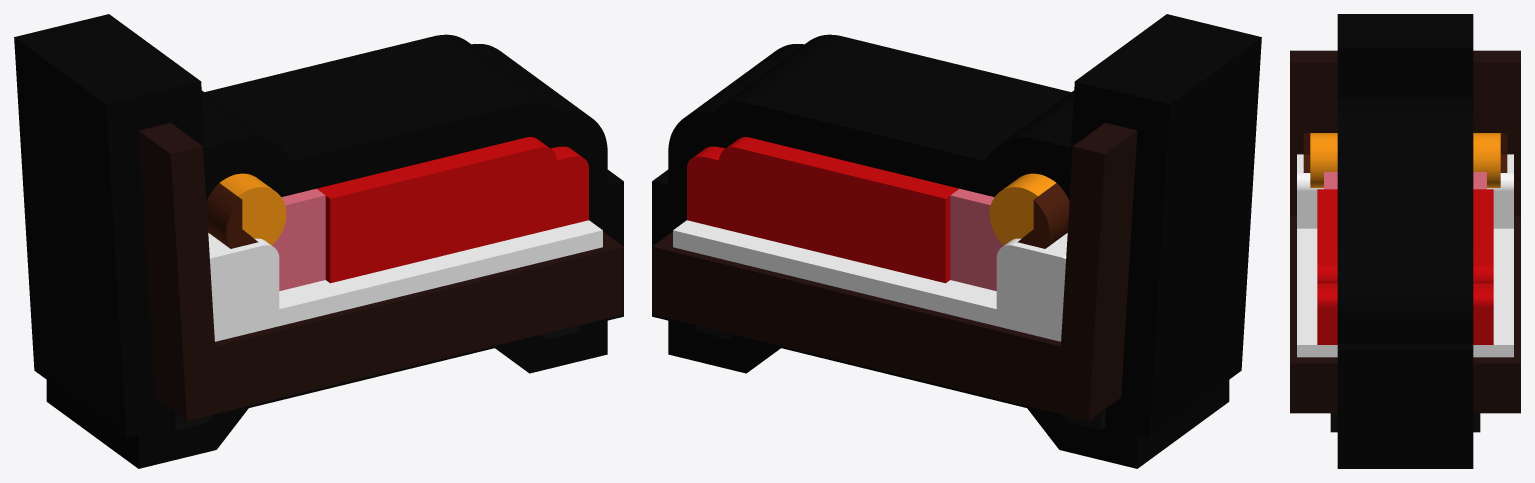
3 renders of one model, left to right at view 1: azimuth 30°, elevation 25°; view 2: azimuth 150°, elevation 25°; view 3: azimuth 270°, elevation 25°, orthographic. The views are drawn at different scales.
Visible parts, largest first — view 1: U+1F6CC_layer00_obj00, U+1F6CC_layer07_obj00, U+1F6CC_layer03_obj00, U+1F6CC_layer06_obj00, U+1F6CC_layer02_obj00, U+1F6CC_layer04_obj00, U+1F6CC_layer05_obj00, U+1F6CC_layer01_obj00; view 2: U+1F6CC_layer00_obj00, U+1F6CC_layer07_obj00, U+1F6CC_layer03_obj00, U+1F6CC_layer06_obj00, U+1F6CC_layer02_obj00, U+1F6CC_layer04_obj00, U+1F6CC_layer05_obj00, U+1F6CC_layer01_obj00; view 3: U+1F6CC_layer00_obj00, U+1F6CC_layer07_obj00, U+1F6CC_layer06_obj00, U+1F6CC_layer03_obj00, U+1F6CC_layer04_obj00, U+1F6CC_layer05_obj00, U+1F6CC_layer02_obj00, U+1F6CC_layer01_obj00.
Part boxes in pixels (bbox=[...]): U+1F6CC_layer00_obj00: bbox=[14, 14, 623, 468]; U+1F6CC_layer07_obj00: bbox=[138, 122, 623, 420]; U+1F6CC_layer03_obj00: bbox=[317, 137, 588, 283]; U+1F6CC_layer06_obj00: bbox=[208, 220, 602, 341]; U+1F6CC_layer02_obj00: bbox=[272, 188, 325, 290]; U+1F6CC_layer04_obj00: bbox=[220, 173, 286, 245]; U+1F6CC_layer05_obj00: bbox=[206, 183, 258, 248]; U+1F6CC_layer01_obj00: bbox=[170, 325, 579, 430]; U+1F6CC_layer00_obj00: bbox=[652, 14, 1261, 468]; U+1F6CC_layer07_obj00: bbox=[652, 122, 1137, 420]; U+1F6CC_layer03_obj00: bbox=[687, 137, 958, 283]; U+1F6CC_layer06_obj00: bbox=[673, 220, 1067, 341]; U+1F6CC_layer02_obj00: bbox=[950, 188, 1003, 290]; U+1F6CC_layer04_obj00: bbox=[989, 173, 1055, 245]; U+1F6CC_layer05_obj00: bbox=[1017, 183, 1069, 248]; U+1F6CC_layer01_obj00: bbox=[696, 325, 1105, 430]; U+1F6CC_layer00_obj00: bbox=[1337, 14, 1473, 468]; U+1F6CC_layer07_obj00: bbox=[1290, 50, 1520, 413]; U+1F6CC_layer06_obj00: bbox=[1297, 154, 1513, 357]; U+1F6CC_layer03_obj00: bbox=[1317, 189, 1493, 344]; U+1F6CC_layer04_obj00: bbox=[1310, 133, 1500, 187]; U+1F6CC_layer05_obj00: bbox=[1303, 133, 1507, 172]; U+1F6CC_layer02_obj00: bbox=[1324, 172, 1486, 189]; U+1F6CC_layer01_obj00: bbox=[1330, 413, 1480, 432].
Size of the model in its own units: 0.6491 by 0.4461 by 0.34.
